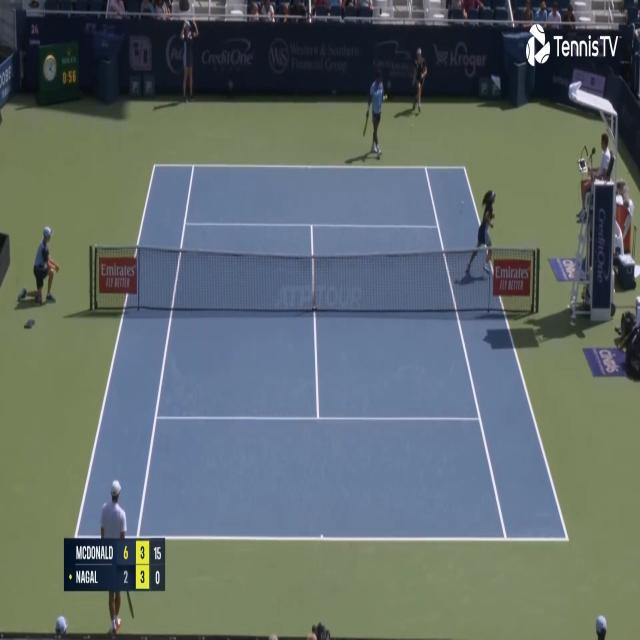tennis-player: (102, 477, 130, 634), (362, 64, 388, 159)
